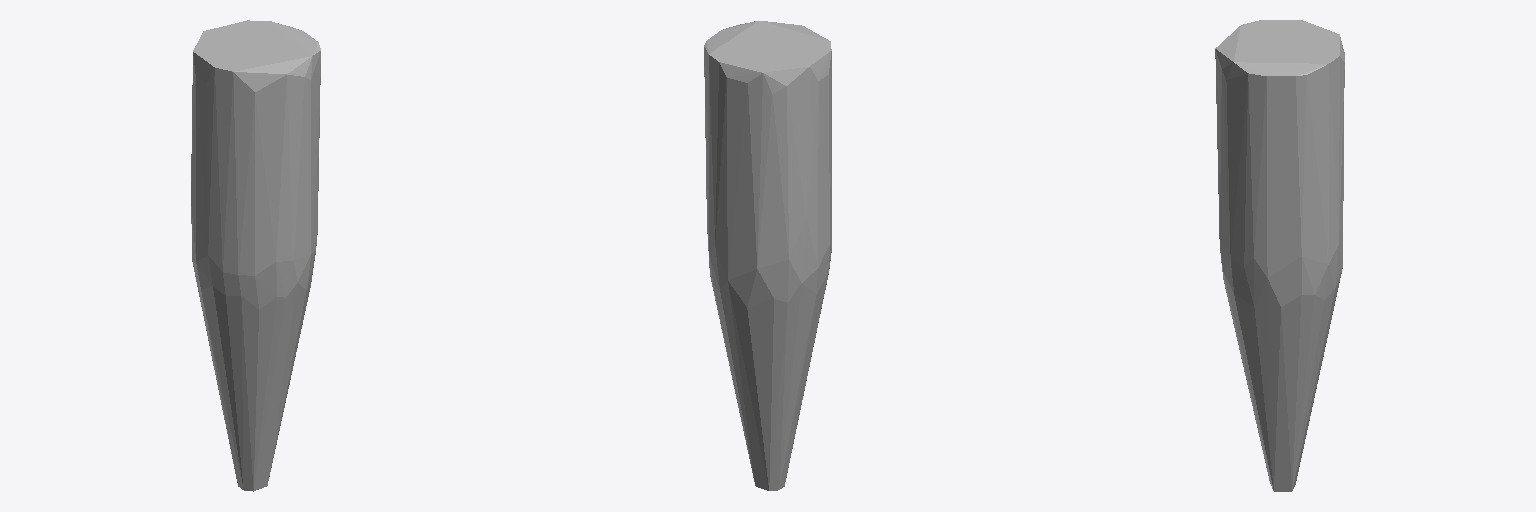
URDF robot description (root):
<robot name="root">
  <link name="link_obj_urdf_convex_piece_0">
    <inertial>
      <origin xyz="0 0 0" rpy="0 0 0"/>
      <mass value="-4.97E-06"/>
      <inertia ixx="1" ixy="0" ixz="0" iyy="1" iyz="0" izz="1"/>
    </inertial>
    <visual>
      <origin xyz="0 0 0" rpy="0 0 0"/>
      <geometry>
        <mesh filename="obj_urdf_convex_piece_0.obj" scale="1.0000E+00 1.0000E+00 1.0000E+00"/>
      </geometry>
      <material name="">
        <color rgba="7.50E-01 7.50E-01 7.50E-01 1"/>
      </material>
    </visual>
    <collision>
      <origin xyz="0 0 0" rpy="0 0 0"/>
      <geometry>
        <mesh filename="obj_urdf_convex_piece_0.obj" scale="1.0000E+00 1.0000E+00 1.0000E+00"/>
      </geometry>
    </collision>
  </link>
</robot>

--- Facts derived from the render (not from the file) ---
Views: 3 orthographic renders of the robot side by side, from view 1: azimuth 30°, elevation 25°; view 2: azimuth 150°, elevation 25°; view 3: azimuth 270°, elevation 25°.
Model root with 1 links and 0 joints (none), rooted at link_obj_urdf_convex_piece_0, posed every joint at zero.
Links seen in each view (by area): view 1: link_obj_urdf_convex_piece_0; view 2: link_obj_urdf_convex_piece_0; view 3: link_obj_urdf_convex_piece_0.
Boxes of the visible links, x1,y1,x2,y2 form: link_obj_urdf_convex_piece_0: (191, 20, 320, 491); link_obj_urdf_convex_piece_0: (704, 21, 831, 490); link_obj_urdf_convex_piece_0: (1215, 20, 1344, 491).
Size in the robot's own frame: 0.0445 by 0.0449 by 0.169 metres.
1 mesh visuals loaded from 1 distinct referenced files (1 OBJ).